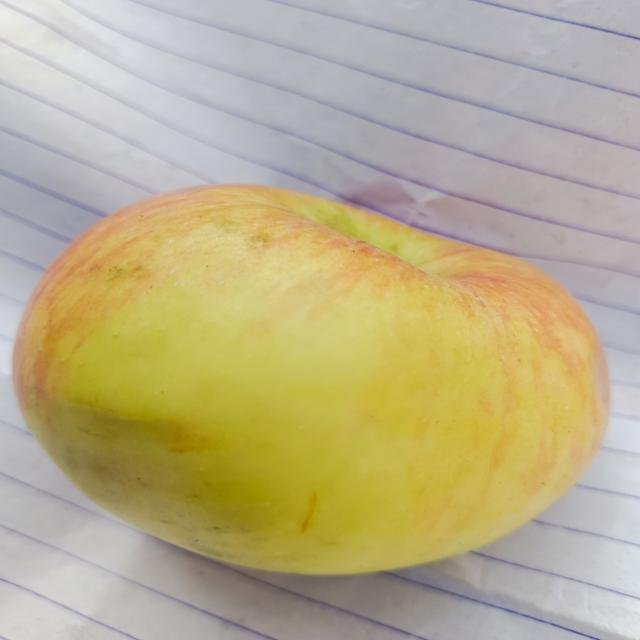Fresh Apple: (17, 175, 604, 572)
